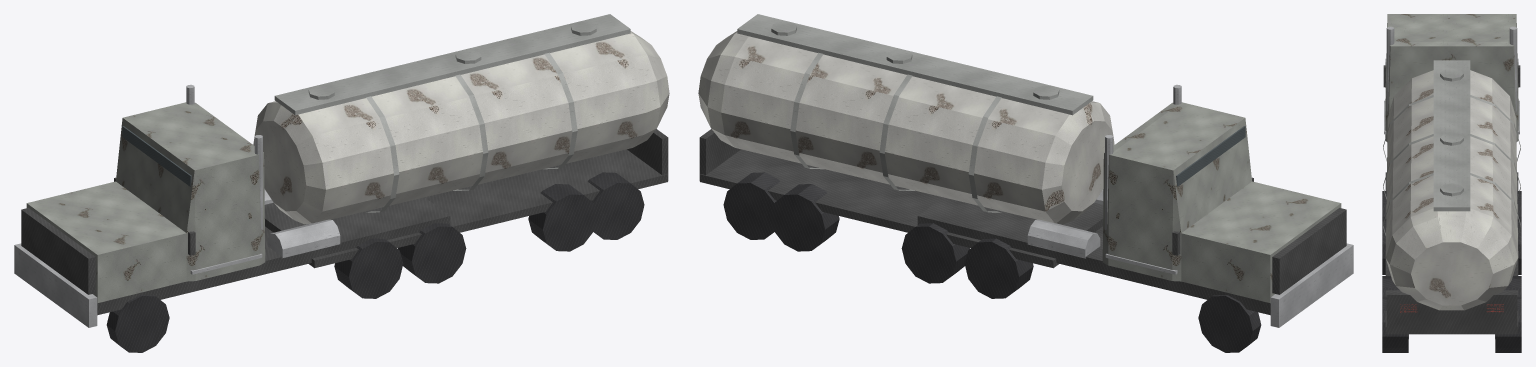
Rendered from tanker.glb.
The picture shows the model from 3 angles, left to right: view 1: azimuth 30°, elevation 25°; view 2: azimuth 150°, elevation 25°; view 3: azimuth 270°, elevation 25°; orthographic projection. The views are drawn at different scales.
Parts seen in each view (by area): view 1: NC_tanker; view 2: NC_tanker; view 3: NC_tanker.
Boxes of the visible parts, <box> form: NC_tanker: <box>14,14,669,352</box>; NC_tanker: <box>698,14,1353,352</box>; NC_tanker: <box>1382,14,1521,352</box>.
Size of the model in its own units: 11.35 by 3.4 by 2.56.
9 materials, 9 textured.
